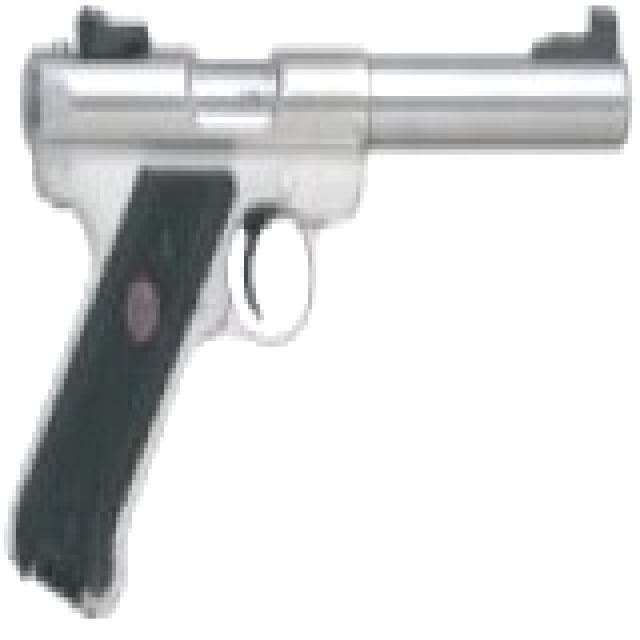pistol: (0, 0, 624, 597)
